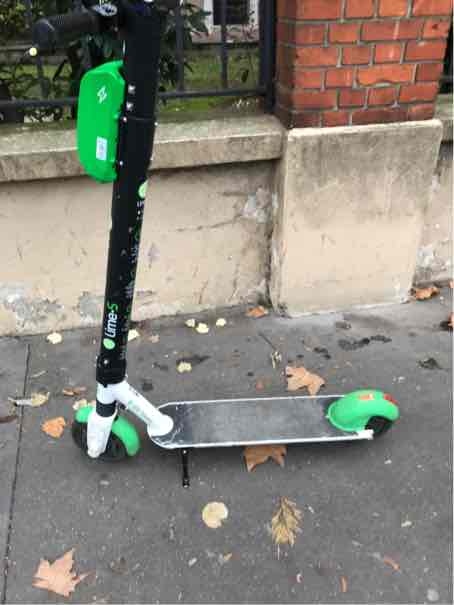scooter: (41, 1, 407, 472)
